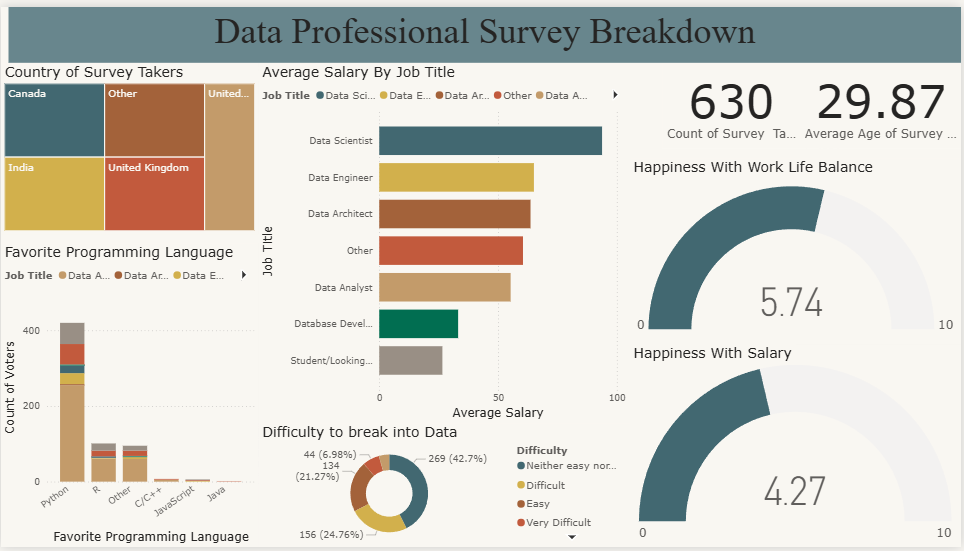

The page's visual inventory and layout, read from the dashboard file:
{"tool":"powerbi","page":{"name":"Page 1","canvas":[1280,720],"ordinal":0},"visuals":[{"type":"textbox","box":[9.6,0,1270.7,74.1],"z":0},{"type":"card","fields":{"Values":["Count(Data Professional Survey.Unique ID)"]},"box":[881.7,75,185,113.3],"z":1},{"type":"card","fields":{"Values":["Avg(Data Professional Survey.Q10 - Current Age)"]},"box":[1066.7,75,213.3,113.3],"z":2},{"type":"barChart","title":"Average Salary By Job Title","fields":{"Category":["Data Professional Survey.Q1 - Which Title Best Fits your Current Role?.1"],"Y":["Avg(Data Professional Survey.Average Salary)"],"Series":["Data Professional Survey.Q1 - Which Title Best Fits your Current Role?.1"]},"box":[343.3,75,495,480],"z":3},{"type":"columnChart","title":"Favorite Programming Language","fields":{"Category":["Data Professional Survey.Q5 - Favorite Programming Language.1"],"Y":["CountNonNull(Data Professional Survey.Unique ID)"],"Series":["Data Professional Survey.Q1 - Which Title Best Fits your Current Role?.1"]},"box":[0,315,343.3,405],"z":4},{"type":"treemap","title":"Country of Survey Takers","fields":{"Group":["Data Professional Survey.Q11 - Which Country do you live in?.1"],"Values":["Count(Data Professional Survey.Q11 - Which Country do you live in?.1)"]},"box":[0,75,343.3,228.3],"z":5},{"type":"gauge","title":"Happiness With Work Life Balance","fields":{"Y":["Avg(Data Professional Survey.Q6 - How Happy are you in your Current Position with the following? (Work/Life Balance))"],"MinValue":["Min(Data Professional Survey.Q6 - How Happy are you in your Current Position with the following? (Work/Life Balance))"],"MaxValue":["Max(Data Professional Survey.Q6 - How Happy are you in your Current Position with the following? (Work/Life Balance))"]},"box":[838.3,201.7,441.7,248.3],"z":6},{"type":"gauge","title":"Happiness With Salary","fields":{"Y":["Avg(Data Professional Survey.Q6 - How Happy are you in your Current Position with the following? (Salary))"],"MinValue":["Min(Data Professional Survey.Q6 - How Happy are you in your Current Position with the following? (Salary))"],"MaxValue":["Max(Data Professional Survey.Q6 - How Happy are you in your Current Position with the following? (Salary))"]},"box":[838.3,450,441.7,270],"z":7},{"type":"donutChart","title":"Difficulty to break into Data","fields":{"Category":["Data Professional Survey.Q7 - How difficult was it for you to break into Data?"],"Y":["CountNonNull(Data Professional Survey.Q7 - How difficult was it for you to break into Data?)"]},"box":[343.3,555,495,165],"z":8}]}

Visuals, with their boxes in screenshot pixels (x1, y1, x2, y2), scaled from the page's 1280x720 canvas onto the 964x551 screenshot:
textbox: 7/0/963/57
card - Count(Data Professional Survey.Unique ID): 664/57/803/144
card - Avg(Data Professional Survey.Q10 - Current Age): 803/57/963/144
"Average Salary By Job Title" barChart: 259/57/631/425
"Favorite Programming Language" columnChart: 0/241/259/550
"Country of Survey Takers" treemap: 0/57/259/232
"Happiness With Work Life Balance" gauge: 631/154/963/344
"Happiness With Salary" gauge: 631/344/963/550
"Difficulty to break into Data" donutChart: 259/425/631/550
